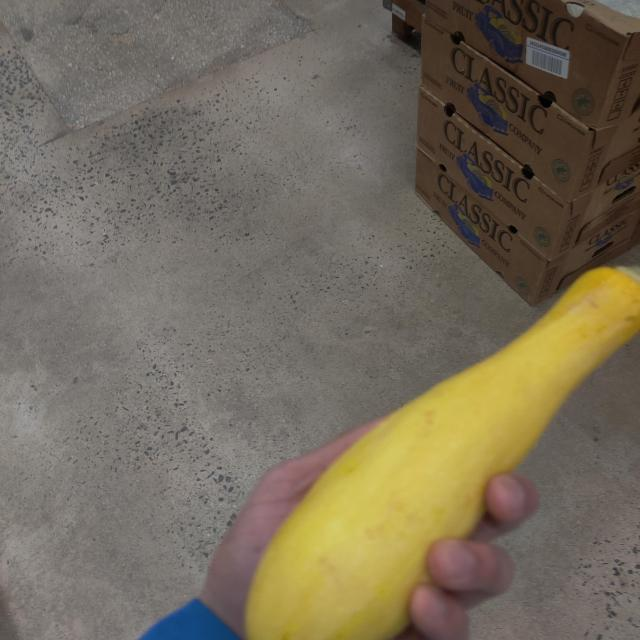Squash: (248, 258, 640, 640)
